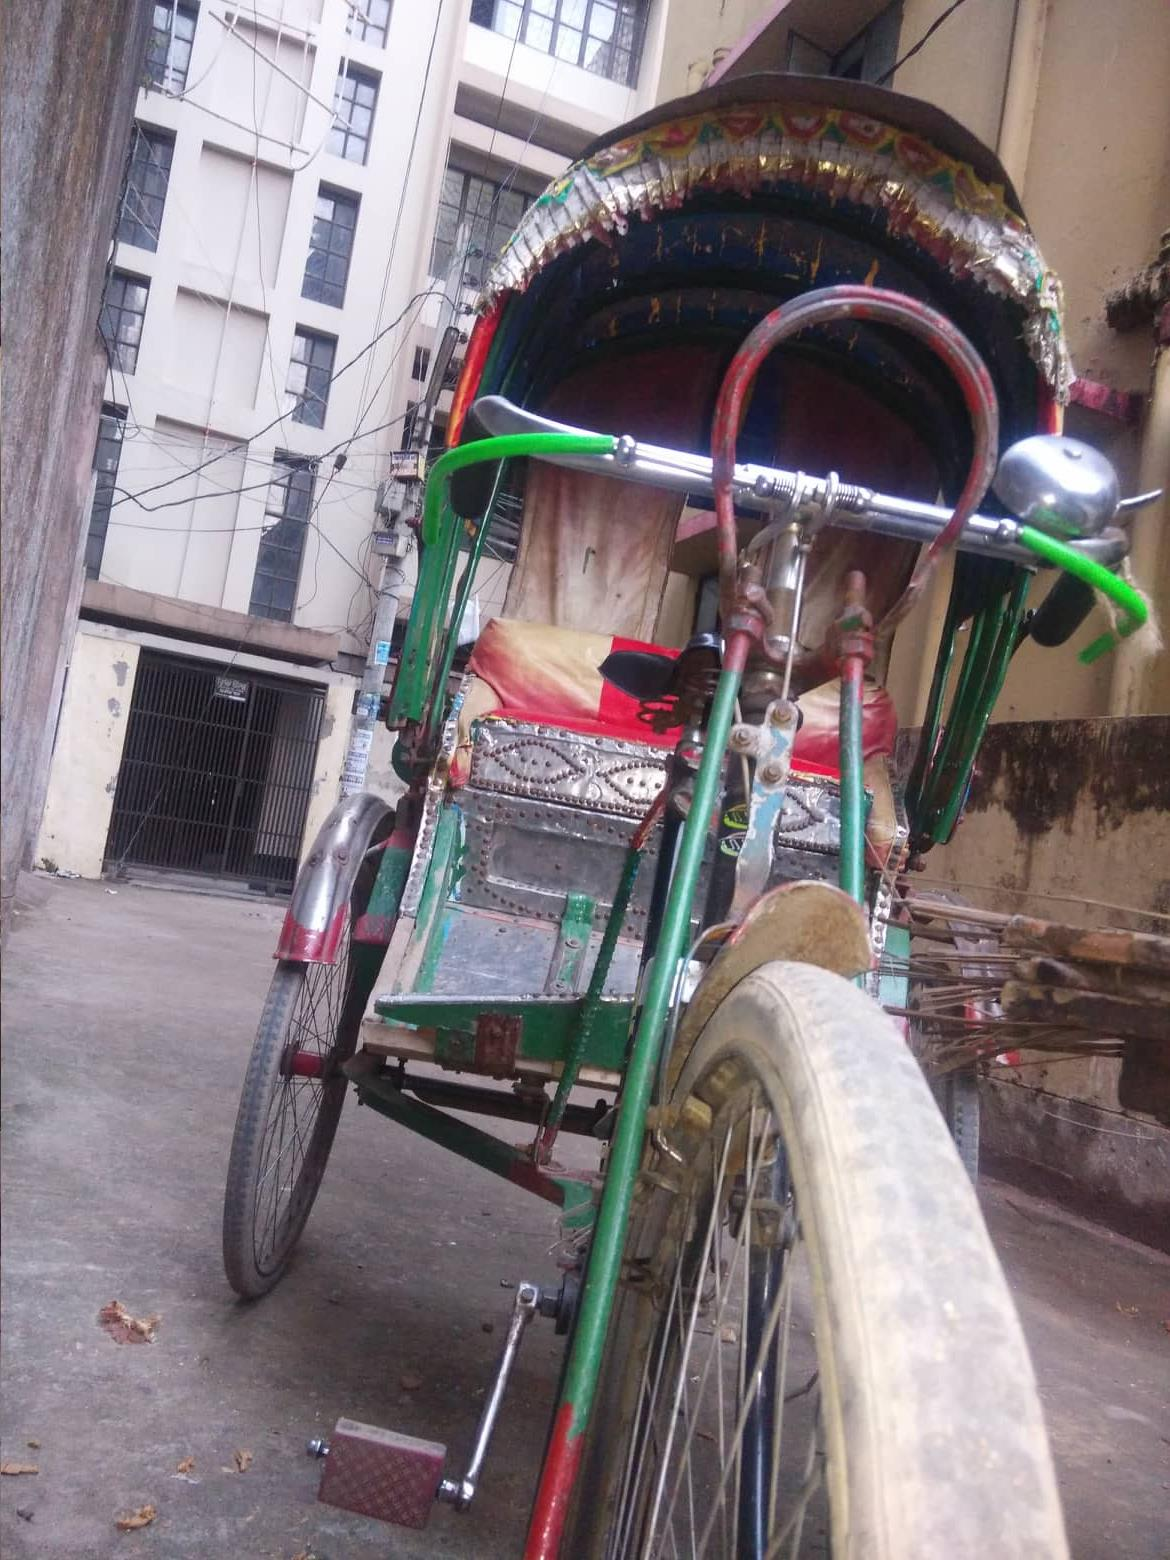Rickshaw: (219, 69, 1097, 1551)
